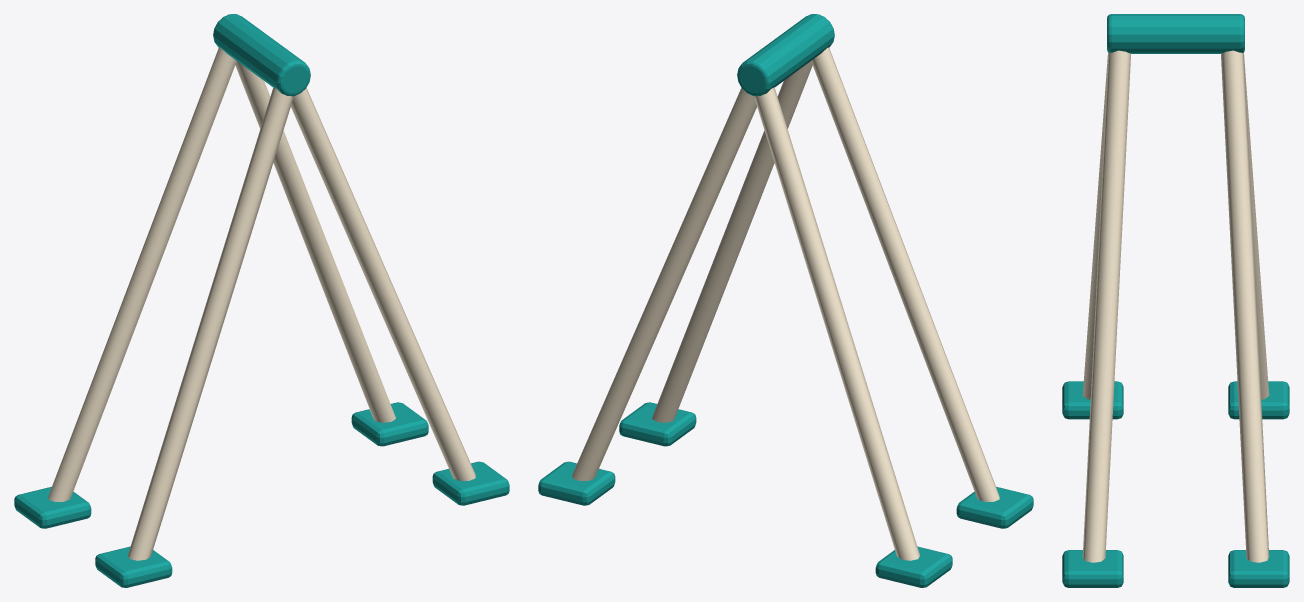
The model's file is big_wheel_stand.glb.
The picture shows the model from 3 angles, left to right: view 1: azimuth 30°, elevation 25°; view 2: azimuth 150°, elevation 25°; view 3: azimuth 270°, elevation 25°; orthographic projection. The views are drawn at different scales.
Parts seen in each view (by area): view 1: big_wheel_stand; view 2: big_wheel_stand; view 3: big_wheel_stand.
Part boxes in pixels (box(x1,y1,x2,y2)): big_wheel_stand: box(14, 14, 509, 587); big_wheel_stand: box(538, 14, 1033, 587); big_wheel_stand: box(1062, 14, 1289, 587).
Bounding box in the file's own units: 30 × 34.58 × 14.8.
